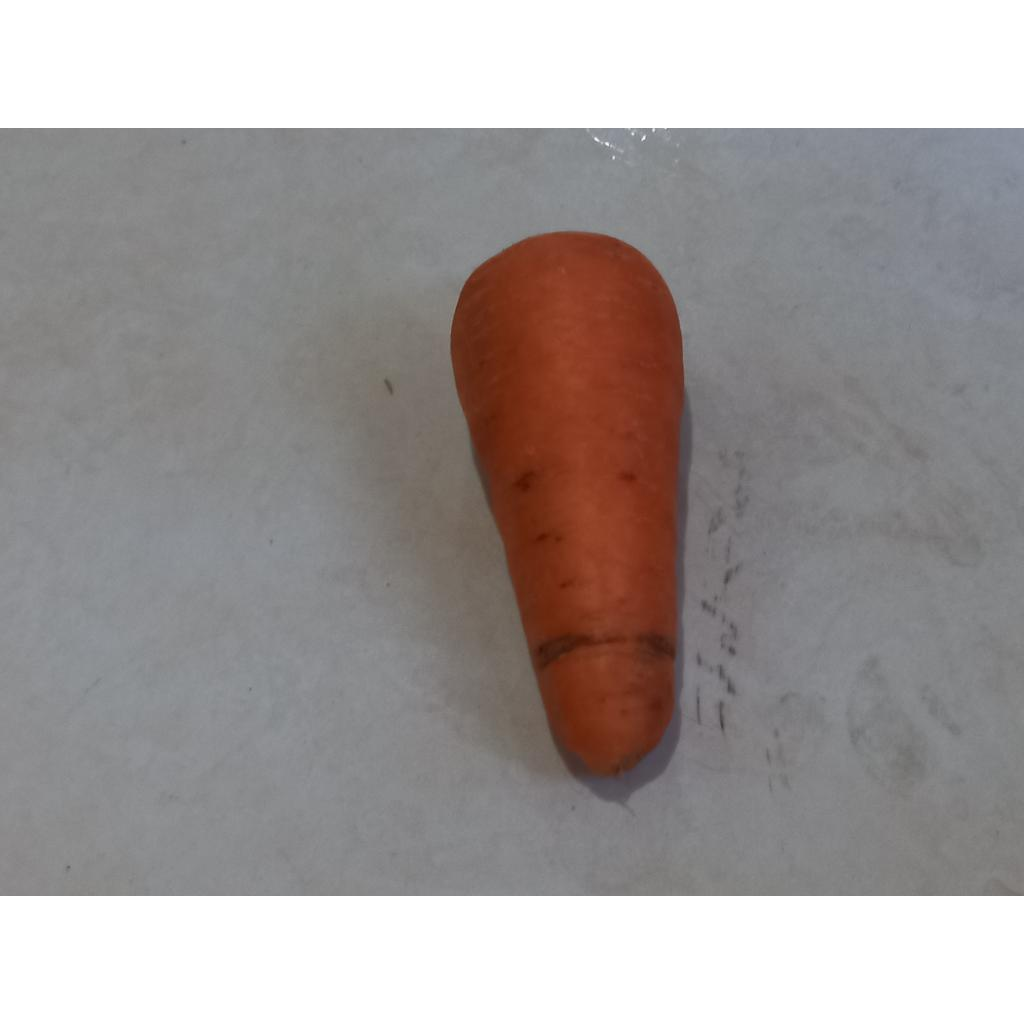carrot: (452, 232, 684, 776)
